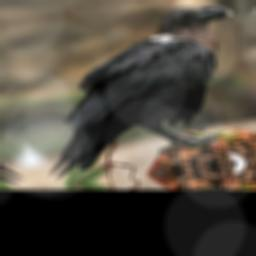Crow: (2, 0, 256, 180)
